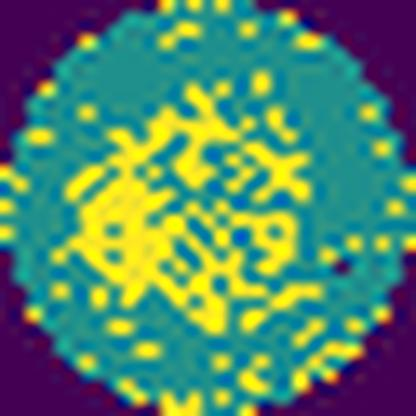Donut: (69, 77, 316, 337)
